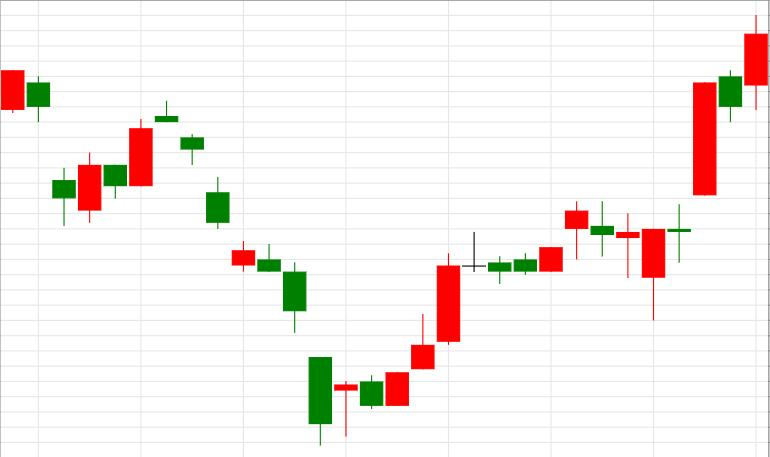three_white_soldiers_rise: (257, 242, 460, 446)
